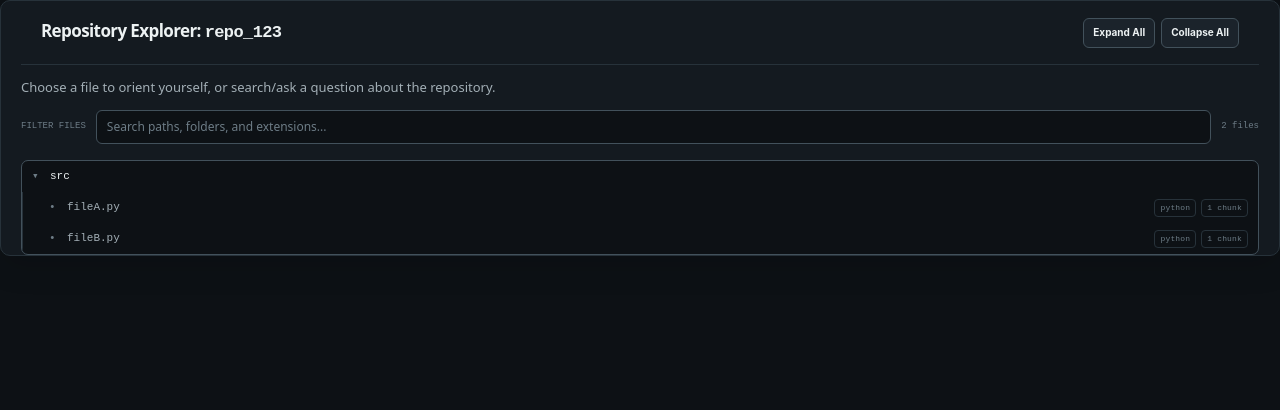
it: RepoExplorerPanel - Component Integration & State Tests › stale file content responses from a previously selected file do not overwrite newly selected file
# Click file A (pending promise)
What coordinates should you click on to do the following:
click the text "fileA.py"
I would click on:
 (93, 208)
Its box is top-left (67, 199), bottom-right (120, 216).
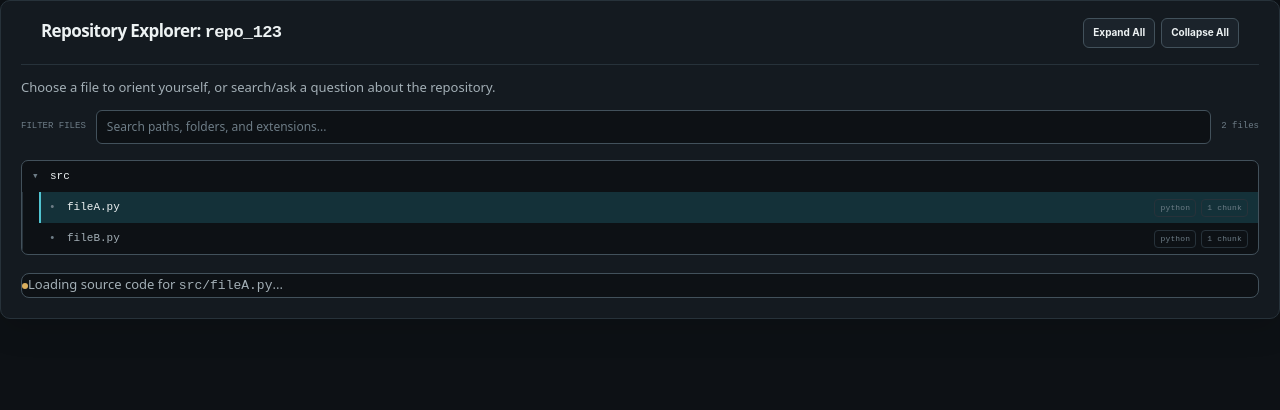
# Immediately click file B
What coordinates should you click on to do the following:
click the text "fileB.py"
I would click on:
 (93, 239)
Its box is top-left (67, 230), bottom-right (120, 247).
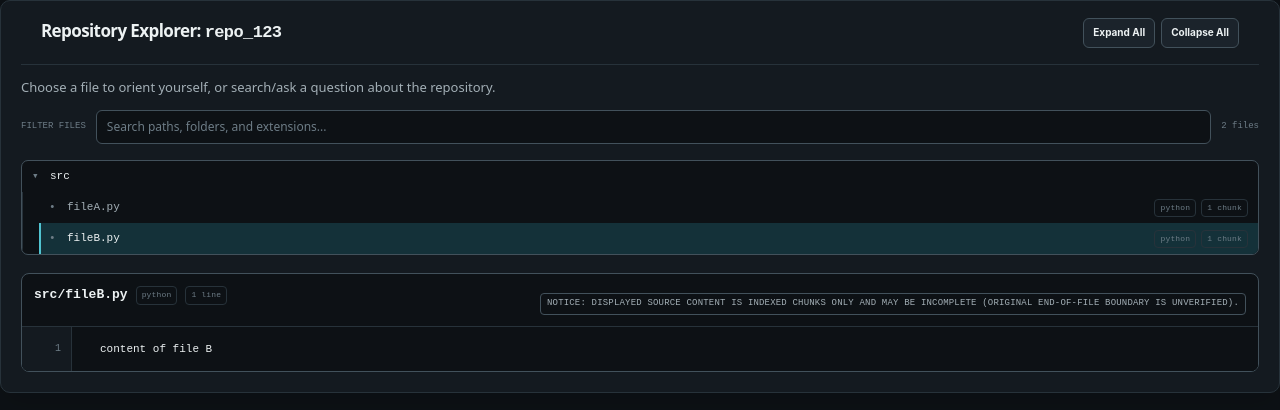
Result: the text "content of file B" is shown at top-left (100, 343), bottom-right (212, 355)
